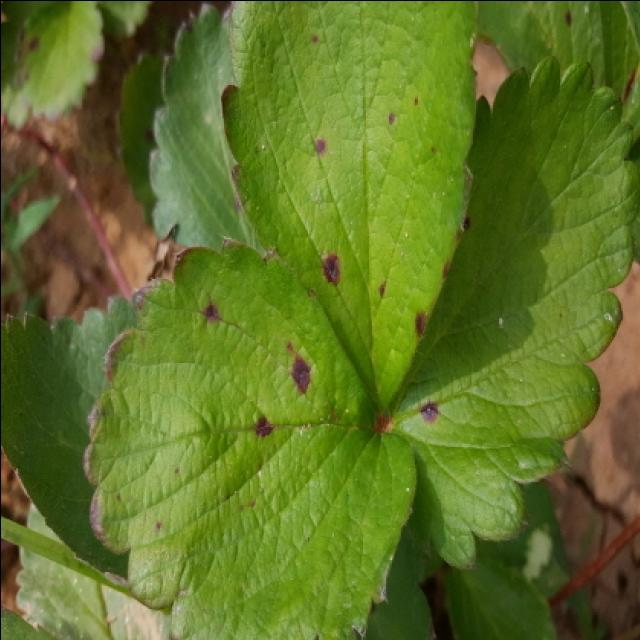Leaf Spot: (81, 235, 419, 640), (379, 53, 638, 570), (218, 2, 481, 422), (476, 2, 638, 157), (0, 2, 103, 132), (113, 52, 163, 231)
